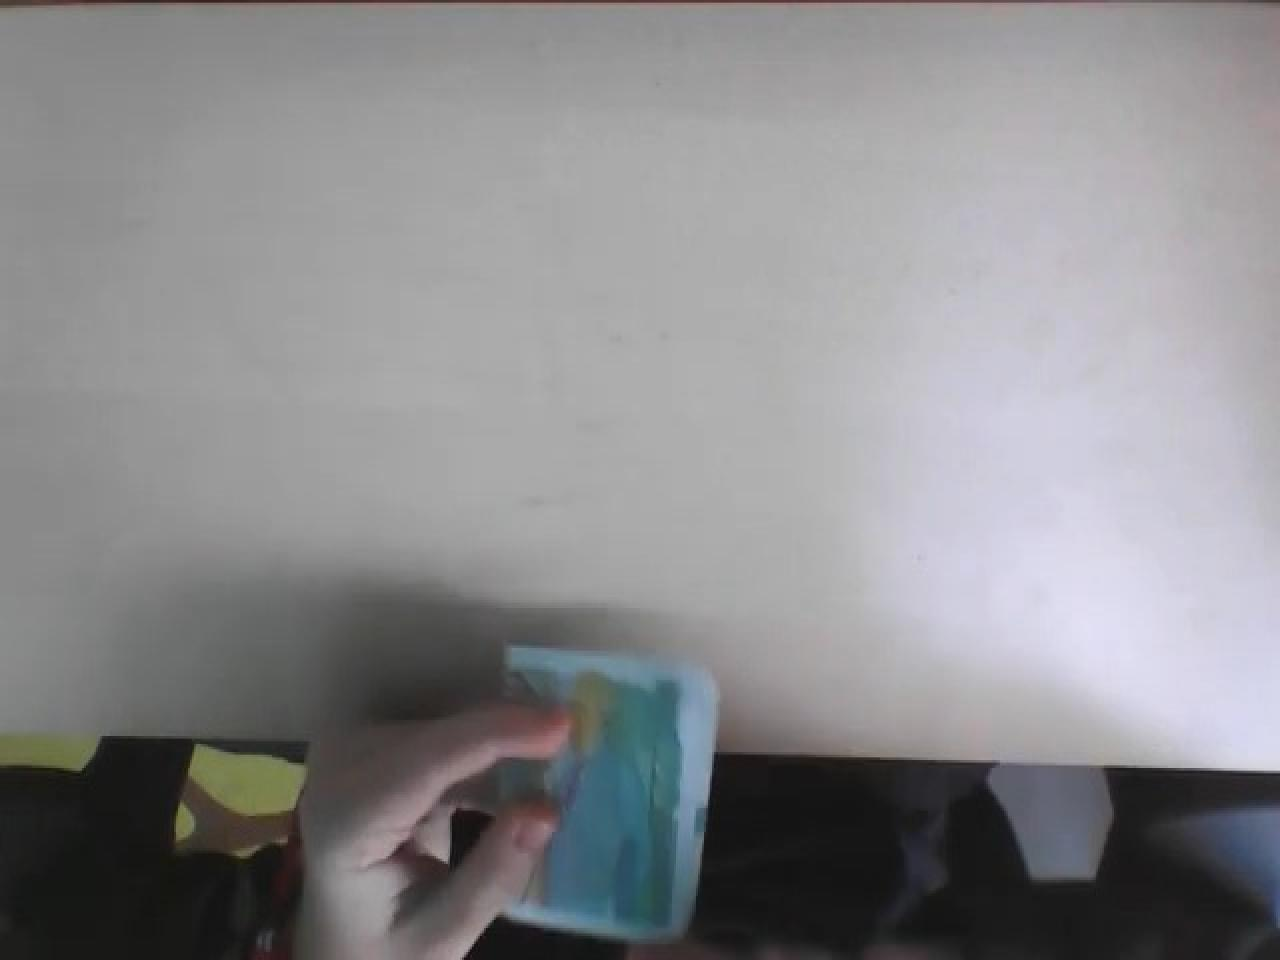100leva: (504, 642, 722, 941)
